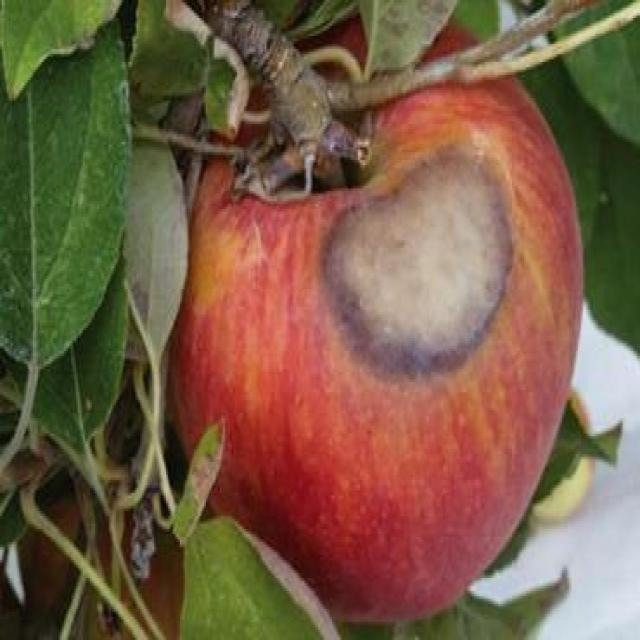Sunscald Fruit: (221, 100, 339, 247)
